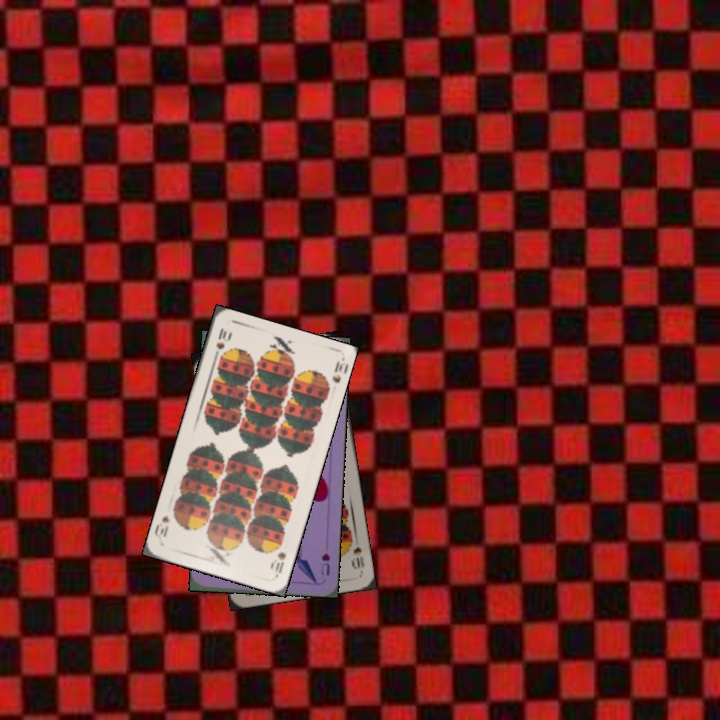HU: (317, 549, 332, 578)
S10: (210, 324, 232, 363), (267, 548, 288, 578), (348, 542, 367, 572)
